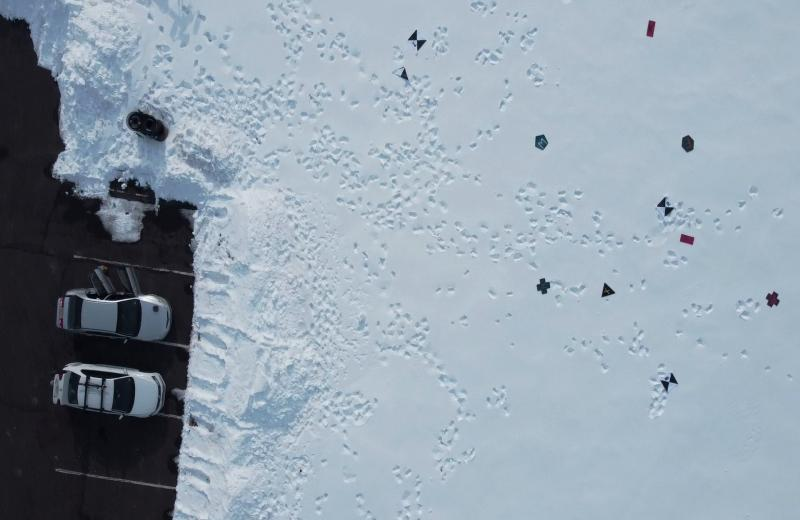Cross: (764, 291, 780, 309), (535, 278, 551, 296)
Hexagon: (679, 135, 695, 154)
Pentagon: (533, 131, 551, 152)
Rectangle: (644, 19, 660, 38), (679, 231, 695, 248)
Triangle: (600, 281, 616, 302)
